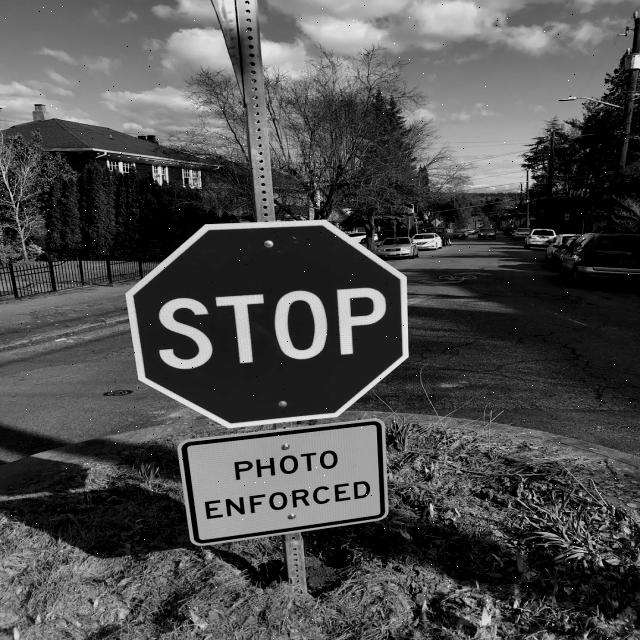Stop-sign: (126, 210, 435, 425)
